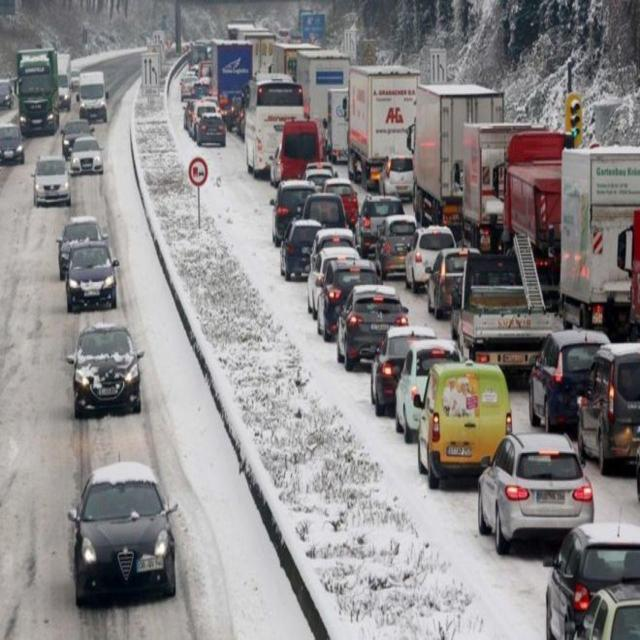Car: (68, 462, 178, 609), (476, 431, 594, 554), (418, 360, 511, 489), (544, 521, 640, 639), (573, 340, 640, 473), (528, 328, 612, 432), (66, 321, 144, 416), (395, 342, 457, 438), (339, 286, 409, 362), (319, 260, 379, 346), (62, 239, 120, 313), (427, 246, 478, 321), (408, 225, 458, 297), (372, 213, 419, 280), (272, 178, 316, 244), (280, 217, 324, 281), (31, 154, 70, 207), (380, 151, 416, 201), (68, 135, 106, 177), (196, 110, 227, 146), (0, 122, 25, 165), (0, 78, 14, 108)
Truck: (15, 47, 58, 131), (76, 68, 107, 127)
